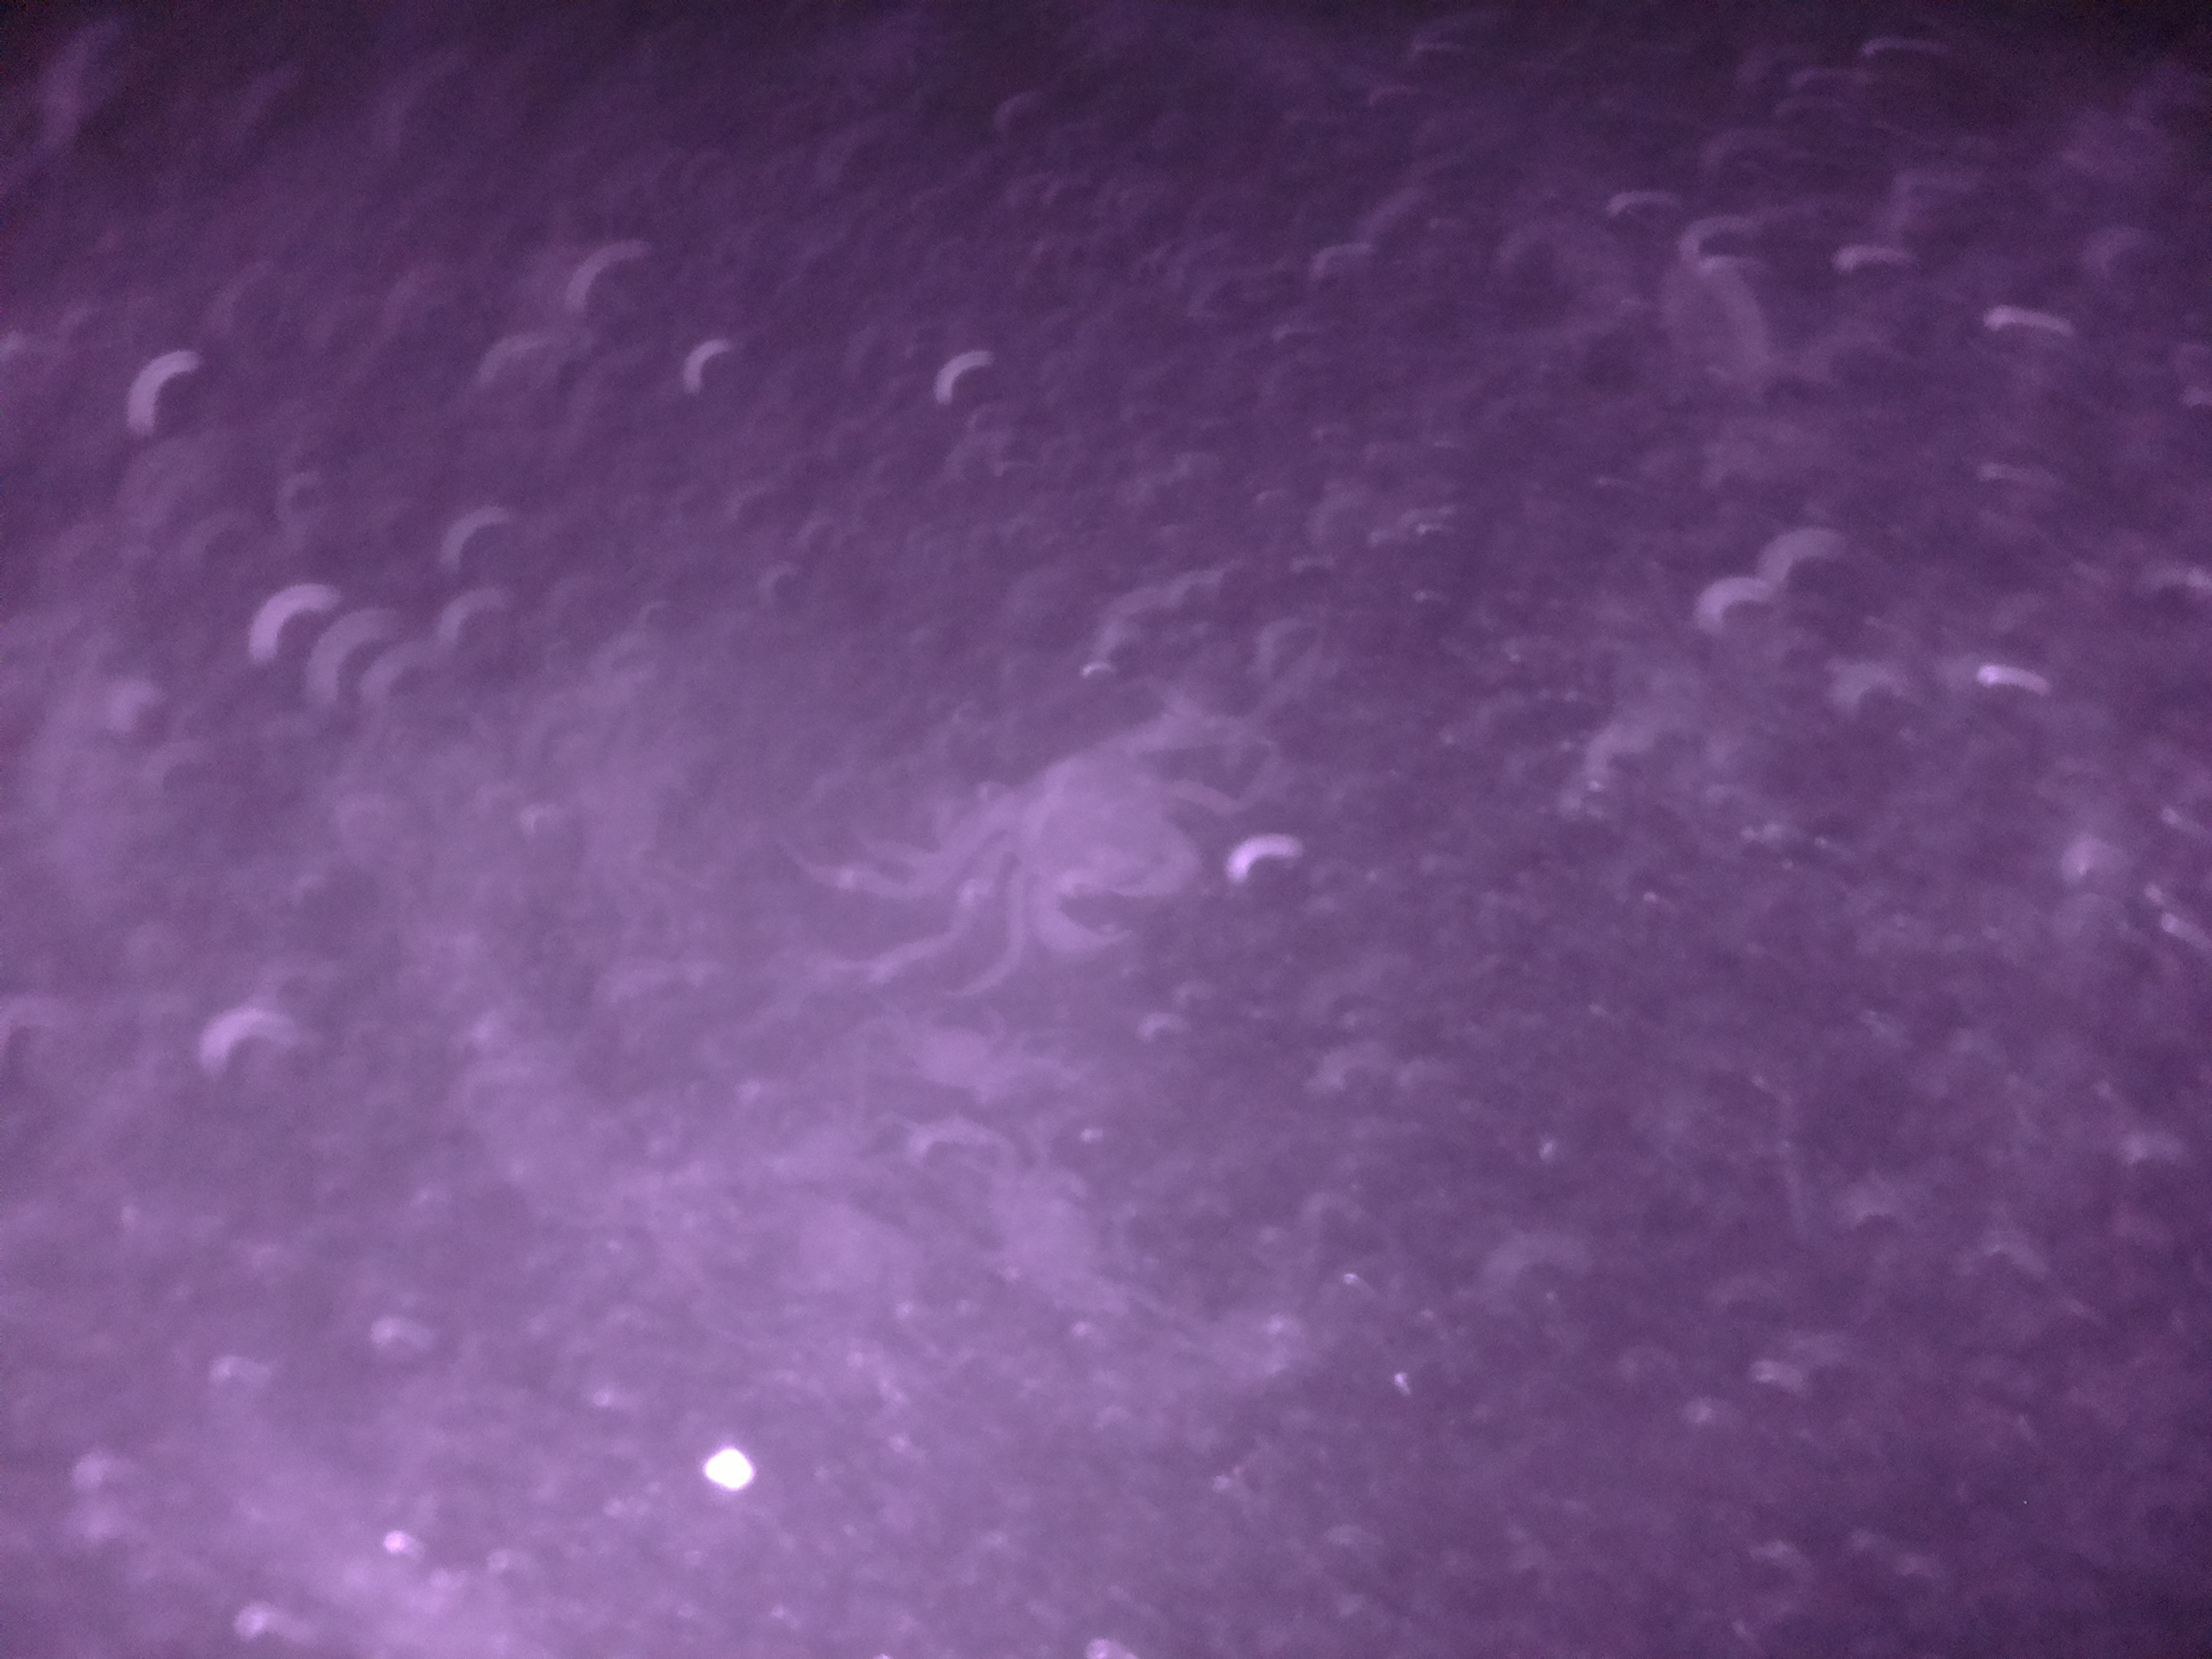Crab: (949, 695, 1226, 981)
